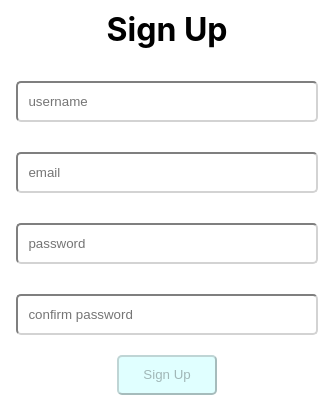
Test: Sign Up Page › interactions with layout › disables button after sign up is pressed to prevent multiple request
Type "Maxwell Agyei" into the field with placeholder "username" at [167, 101], box [16,81,318,122]
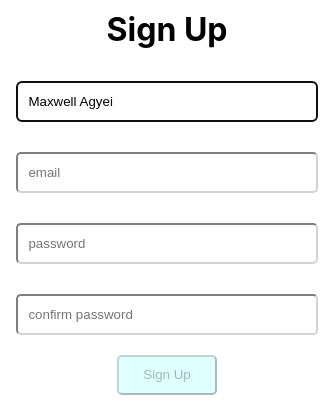
Type "max@test.com" into the field with placeholder "email" at [167, 172], box [16,152,318,193]
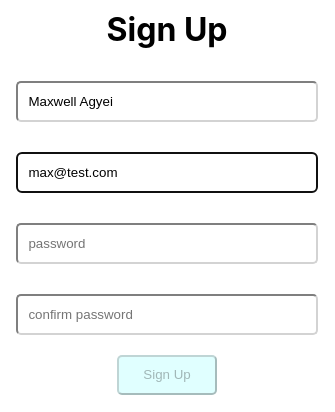
Type "Password" into the password field with placeholder "password" at [167, 243], box [16,223,318,264]
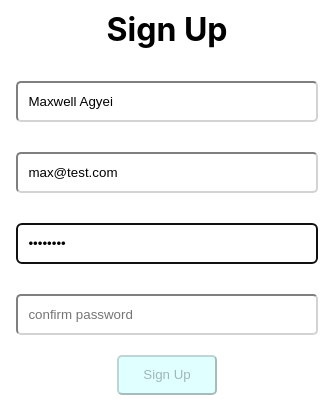
Type "Password" into the password field with placeholder "confirm password" at [167, 314], box [16,294,318,335]
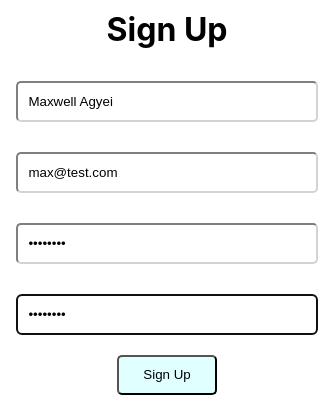
Click the button "Sign Up" at [167, 375], box [117,355,217,395]
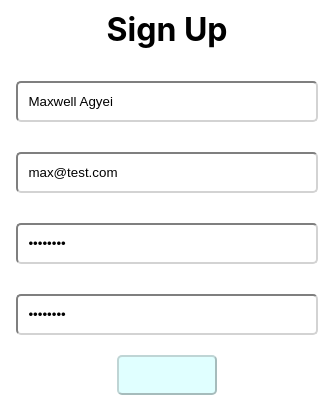
Expected: the button named "Sign Up" is disabled, [117,355,217,395]
